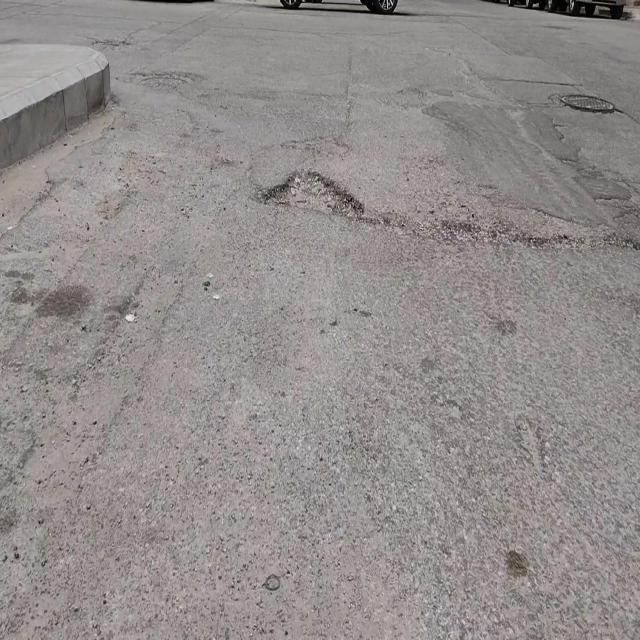Pothole: (262, 164, 368, 223)
